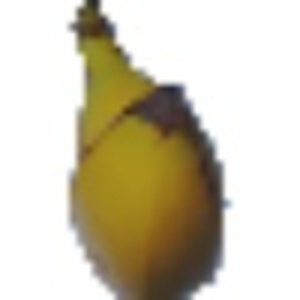banana: (59, 3, 239, 299)
